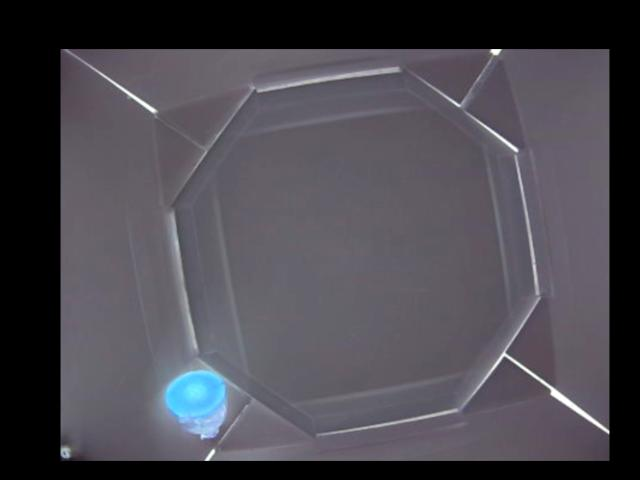Carrot: (165, 371, 227, 438)
